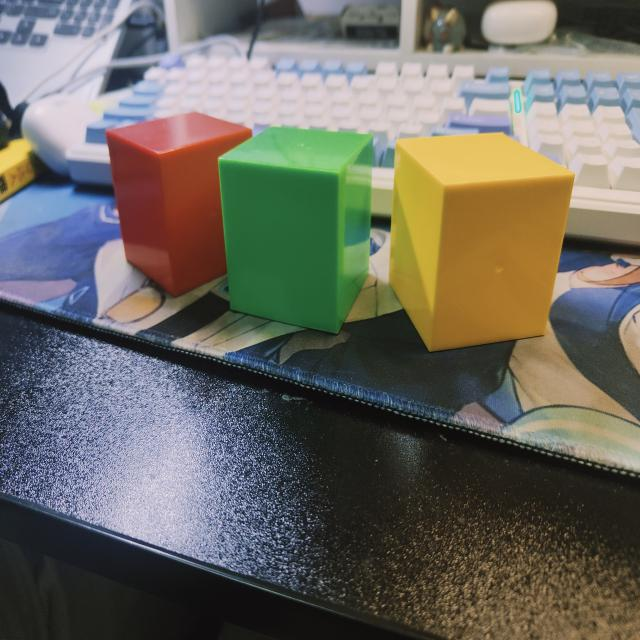green: (217, 127, 379, 335)
red: (106, 112, 252, 299)
yellow: (388, 134, 575, 354)
